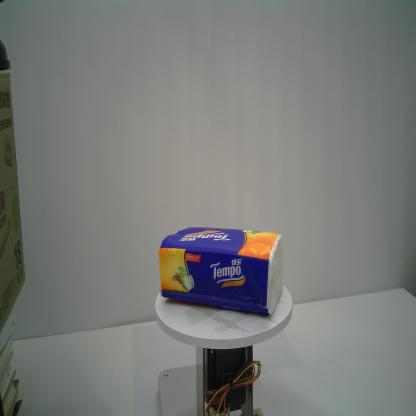Tissue: (158, 226, 284, 316)
